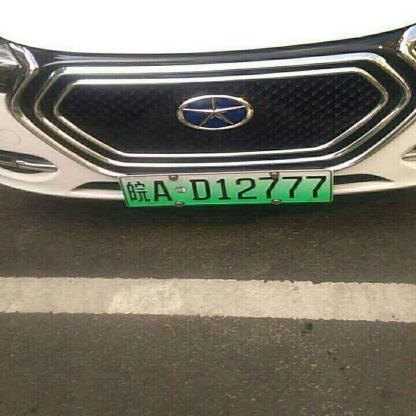lp: (118, 170, 333, 208)
